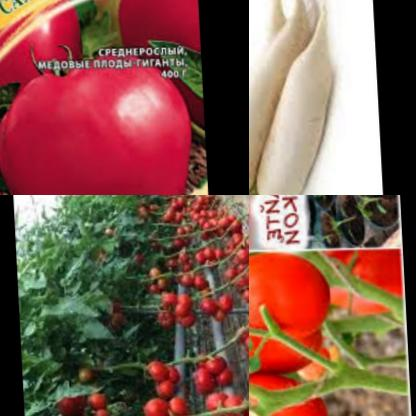redka: (249, 4, 341, 195), (249, 0, 321, 195), (249, 0, 283, 59)
tomato: (0, 45, 187, 195), (249, 257, 337, 343), (0, 9, 93, 80), (249, 308, 325, 386), (249, 361, 339, 416), (121, 0, 199, 57), (316, 251, 386, 312), (39, 371, 115, 416), (169, 208, 230, 256), (150, 289, 212, 336), (137, 195, 221, 225), (141, 263, 198, 299), (127, 386, 194, 416), (137, 364, 188, 399), (184, 243, 220, 291), (191, 351, 230, 395), (199, 387, 249, 416), (222, 260, 249, 310), (196, 292, 231, 327), (215, 235, 249, 265), (233, 323, 249, 366)
